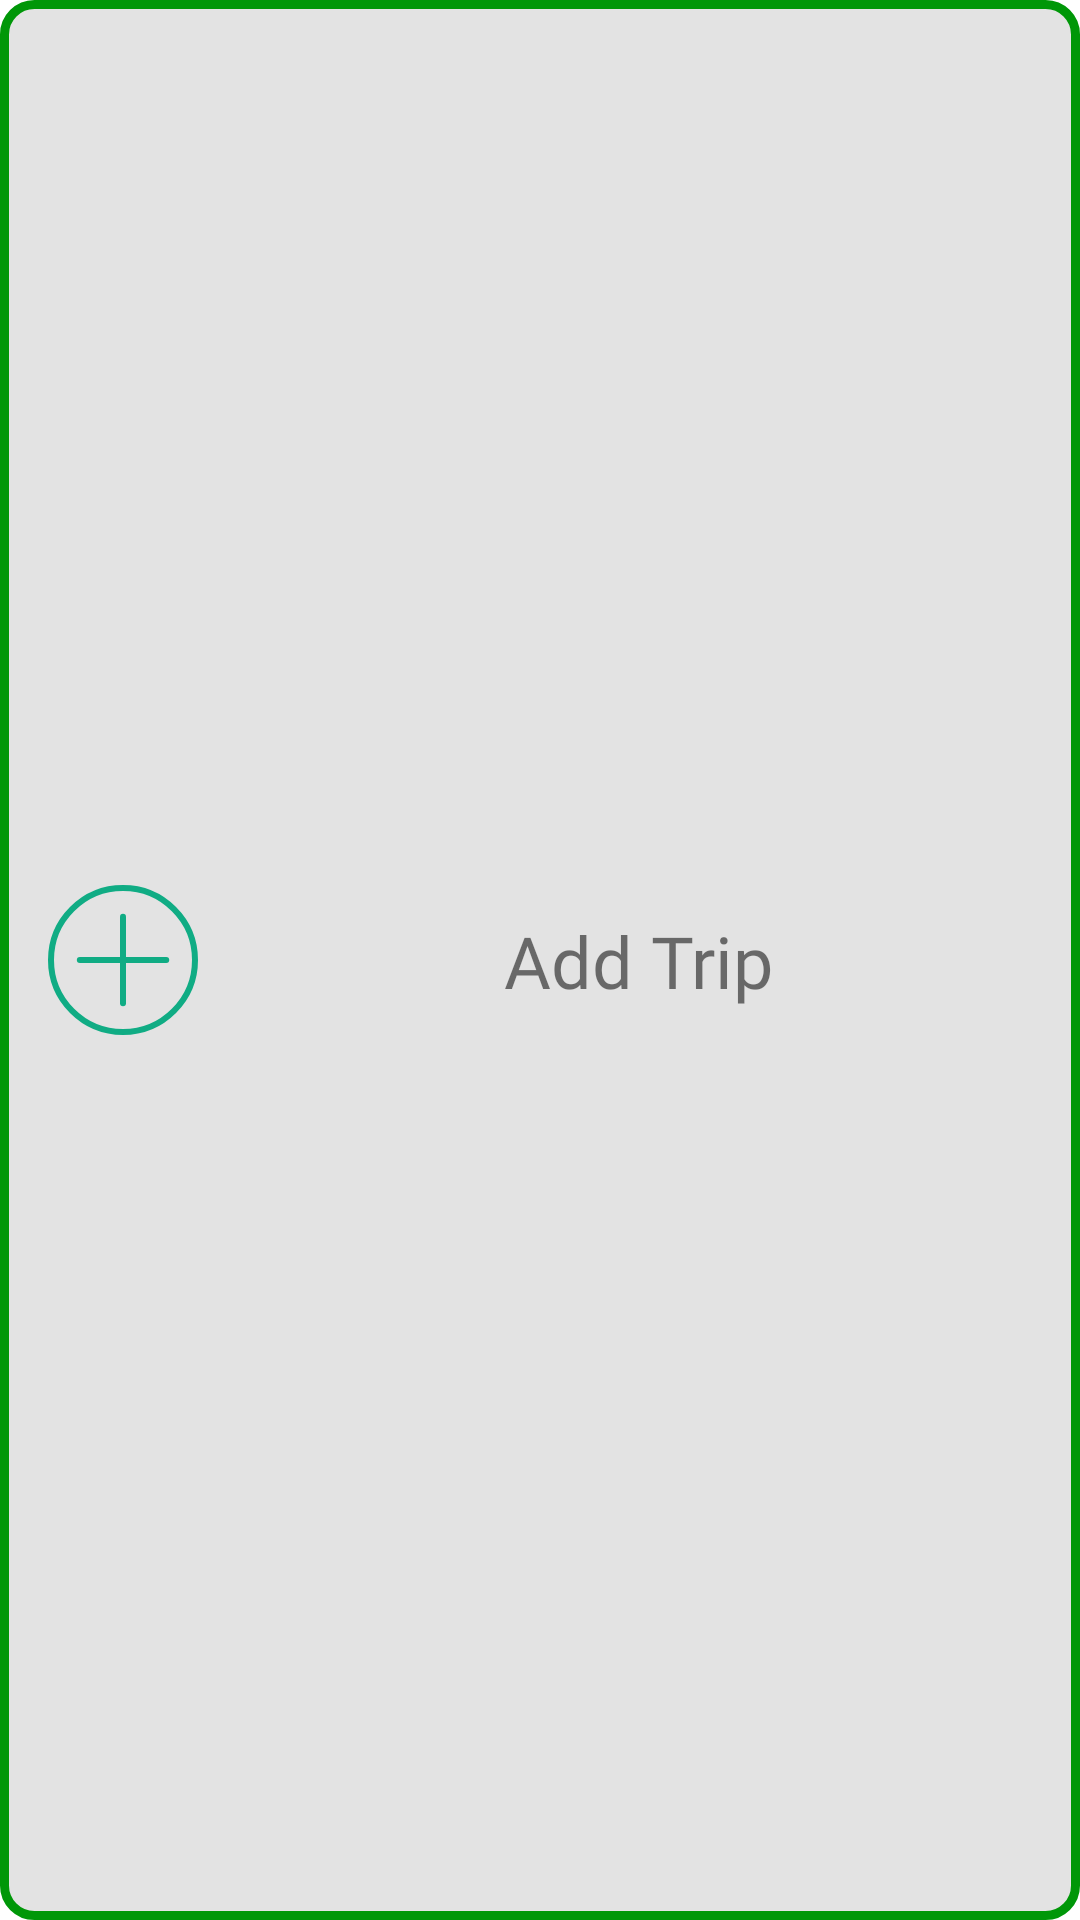

Screen size 1080 x 1920. Icon name, then its box in pixels as (x1, y1, x2, y2):
plus: (48, 885, 198, 1035)
